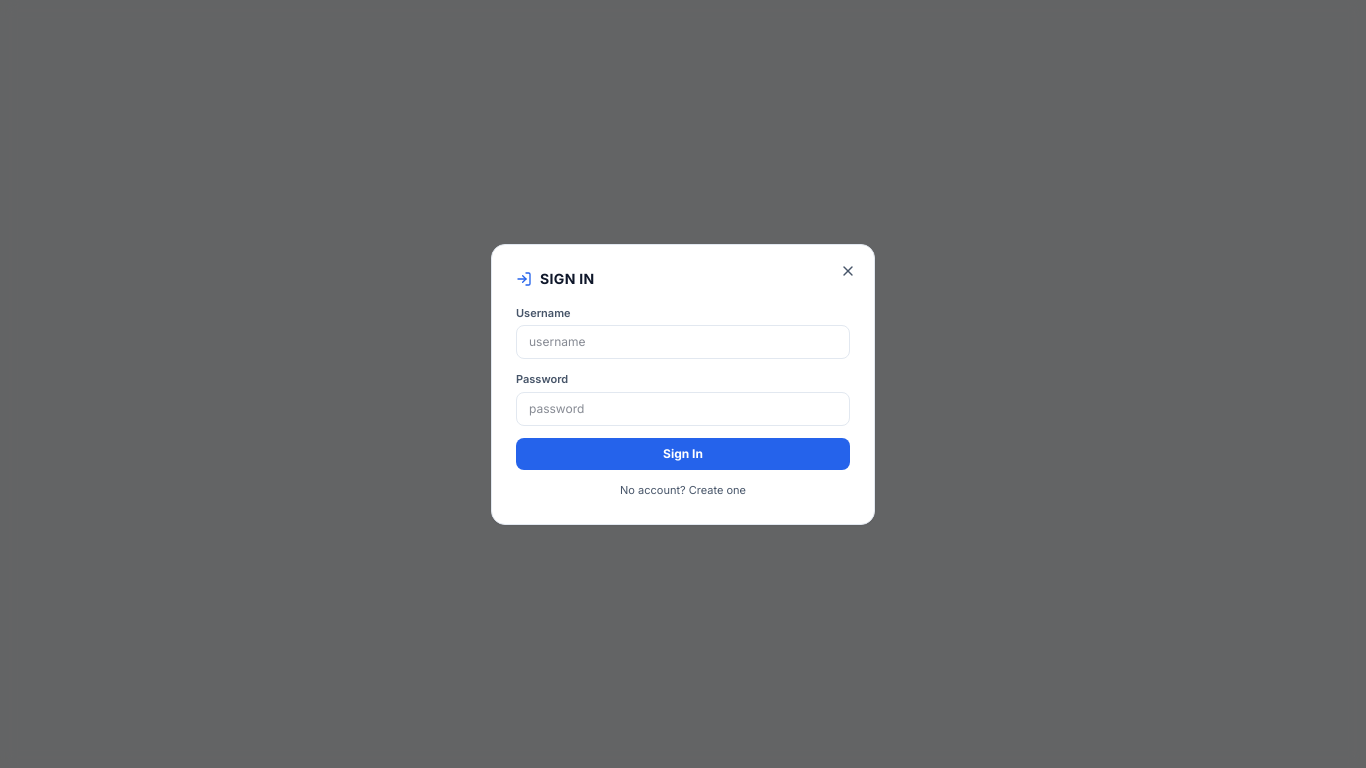
Test case: AuthModal › shows error on failed login
The image size is (1366, 768).
Type "alice" into the field with test id "auth-username".
click(683, 342); type("alice")  # box [516, 325, 850, 359]
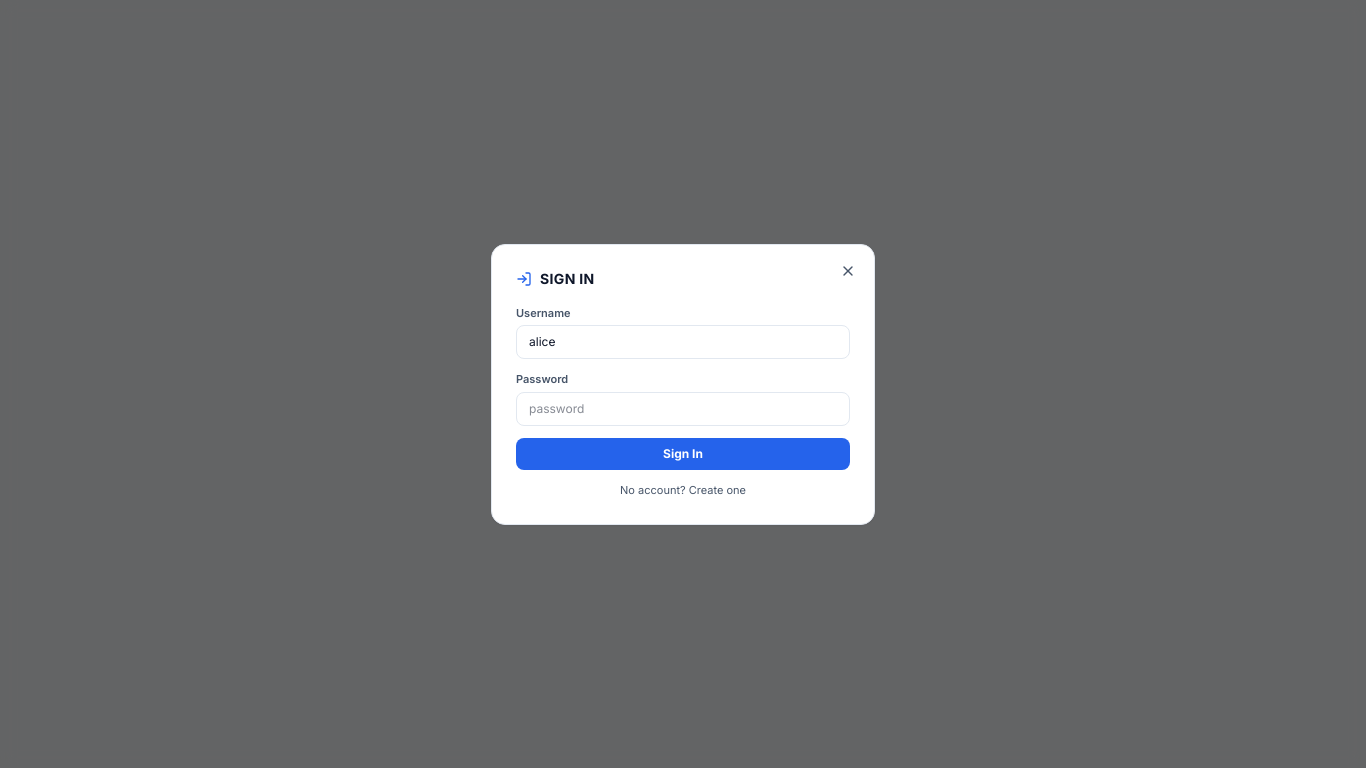
Type "wrongpass1" into the password field with test id "auth-password".
click(683, 408); type("wrongpass1")  # box [516, 392, 850, 426]
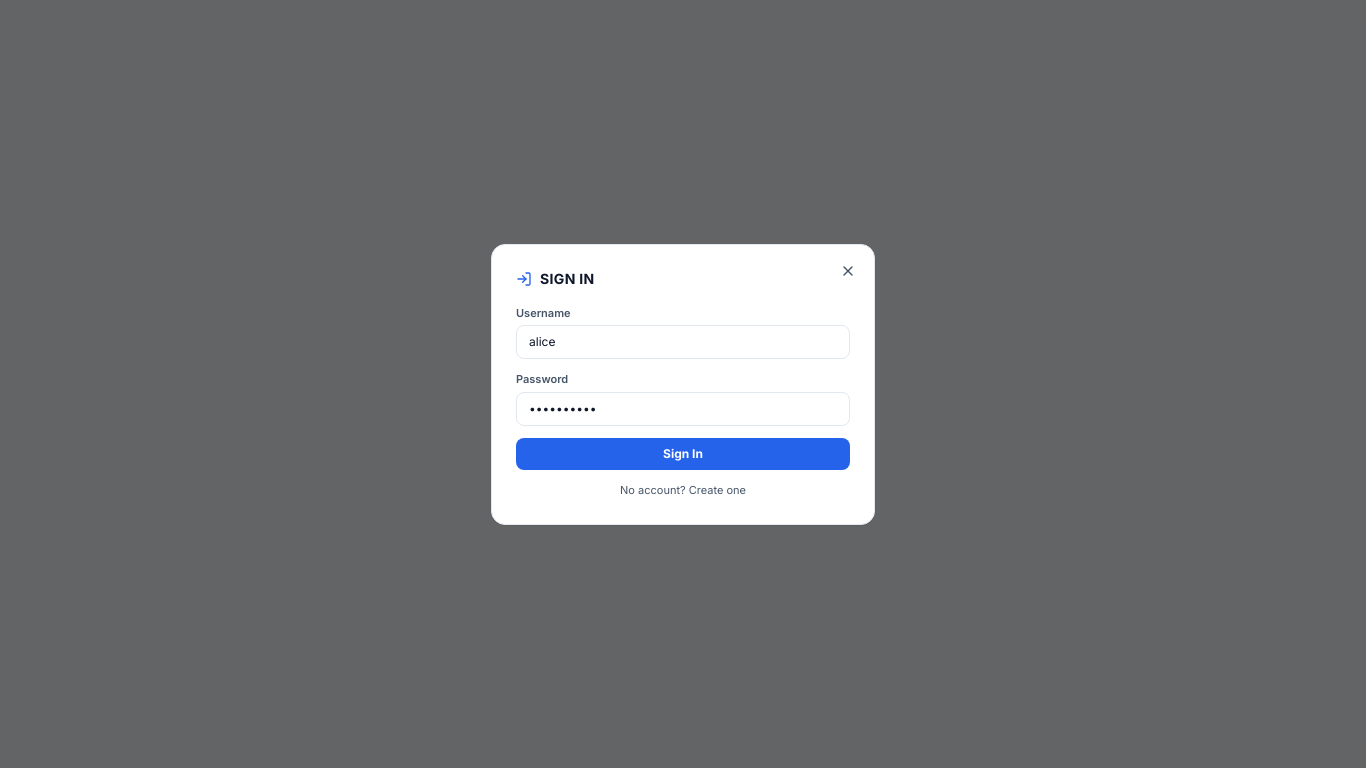
Click the button with test id "auth-submit".
click(683, 454)  # box [516, 438, 850, 470]
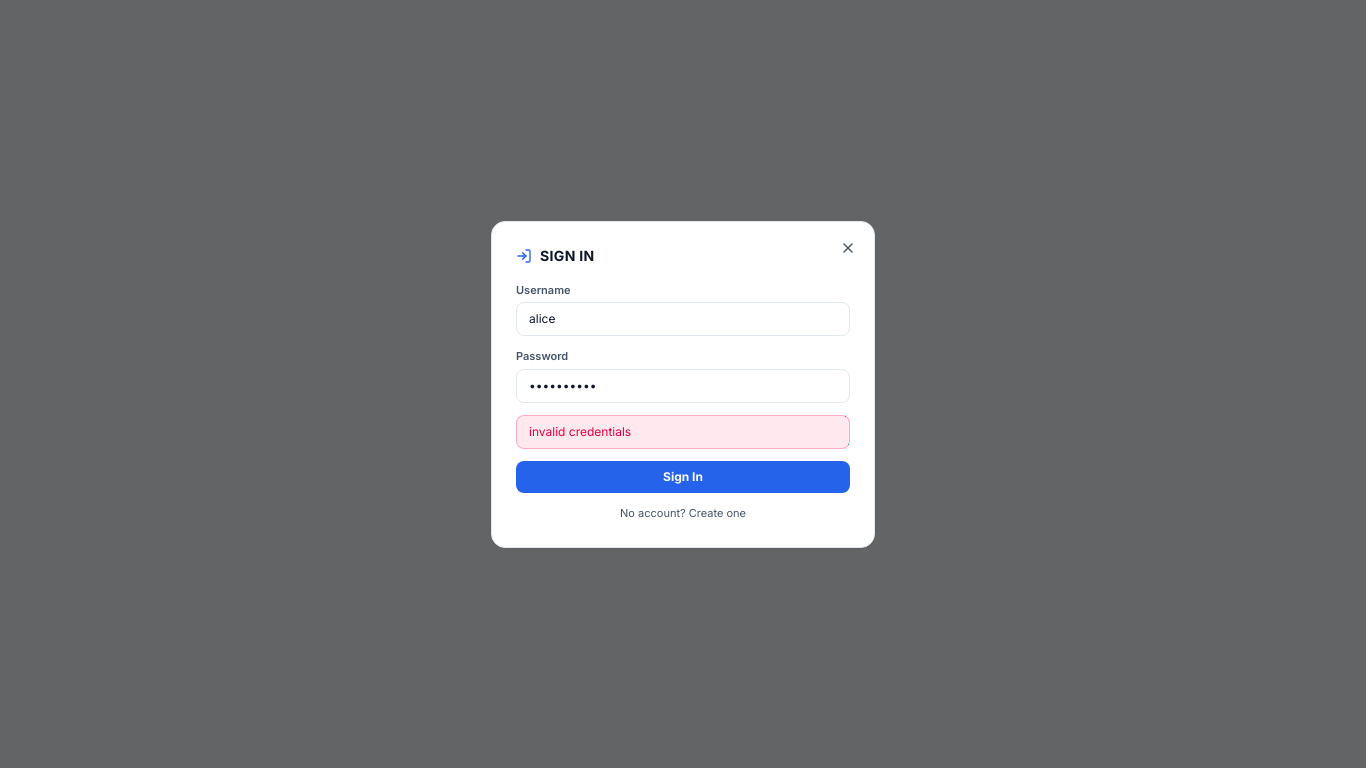
Check: the message reads "invalid credentials", box [529, 424, 631, 438]
